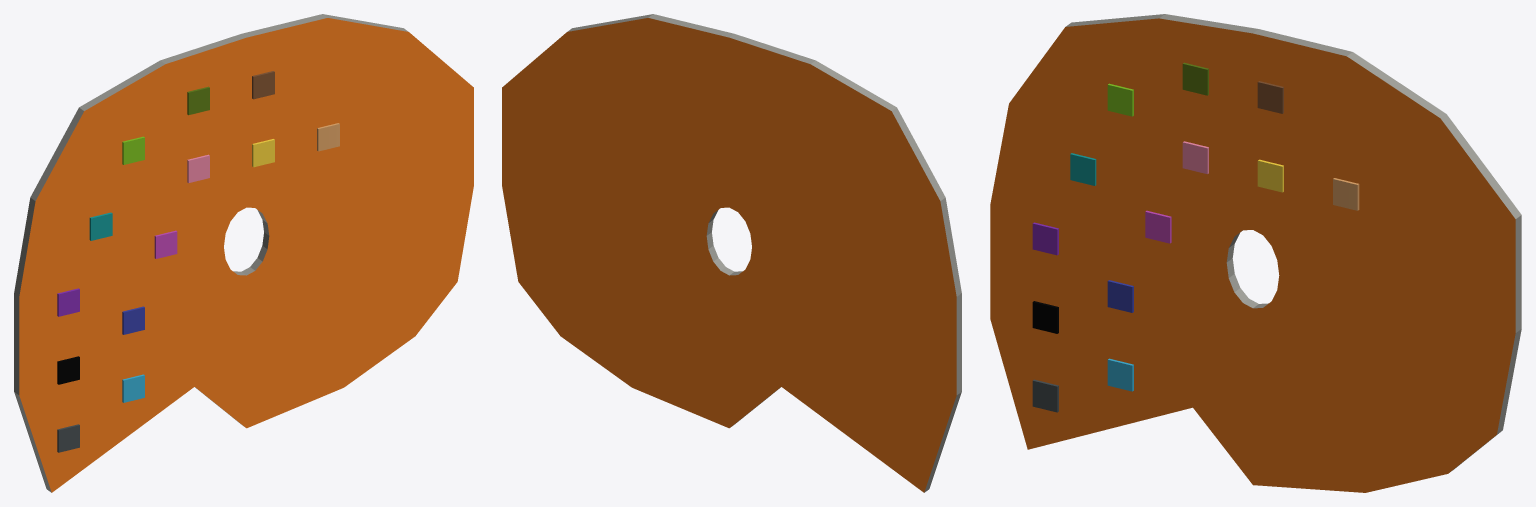
Rendered from item_palette13.obj.
3 renders of one model, left to right at view 1: azimuth 30°, elevation 25°; view 2: azimuth 150°, elevation 25°; view 3: azimuth 330°, elevation 25°, orthographic. The views are drawn at different scales.
Visible parts, largest first — view 1: wooden_palette_with_open_thumb_hole_and_grip_notch, native_cumulative_paint_state; view 2: wooden_palette_with_open_thumb_hole_and_grip_notch; view 3: wooden_palette_with_open_thumb_hole_and_grip_notch, native_cumulative_paint_state.
Part boxes in pixels (x1=…): wooden_palette_with_open_thumb_hole_and_grip_notch: x1=14, y1=14, x2=473, y2=492; native_cumulative_paint_state: x1=57, y1=71, x2=339, y2=452; wooden_palette_with_open_thumb_hole_and_grip_notch: x1=502, y1=14, x2=961, y2=492; wooden_palette_with_open_thumb_hole_and_grip_notch: x1=990, y1=14, x2=1521, y2=492; native_cumulative_paint_state: x1=1032, y1=62, x2=1359, y2=412.
Size of the model in its own units: 0.875 by 0.75 by 0.0219.
